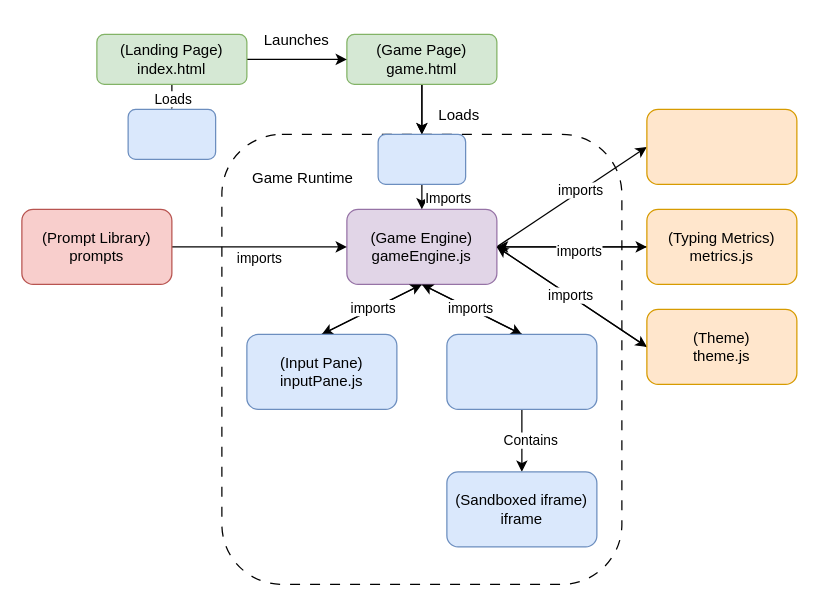
This 819x606 diagram has some shape labels left out. The shapes that lost their labels are listed below. From the top down, each one's centre as x and y in pixels, then its label:
the point at 171,133: app.js
the point at 721,146: (Settings) settings.js
the point at 421,158: game.js
the point at 521,371: (Render Pane) renderPane.js
